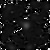node: (21, 20, 31, 30)
